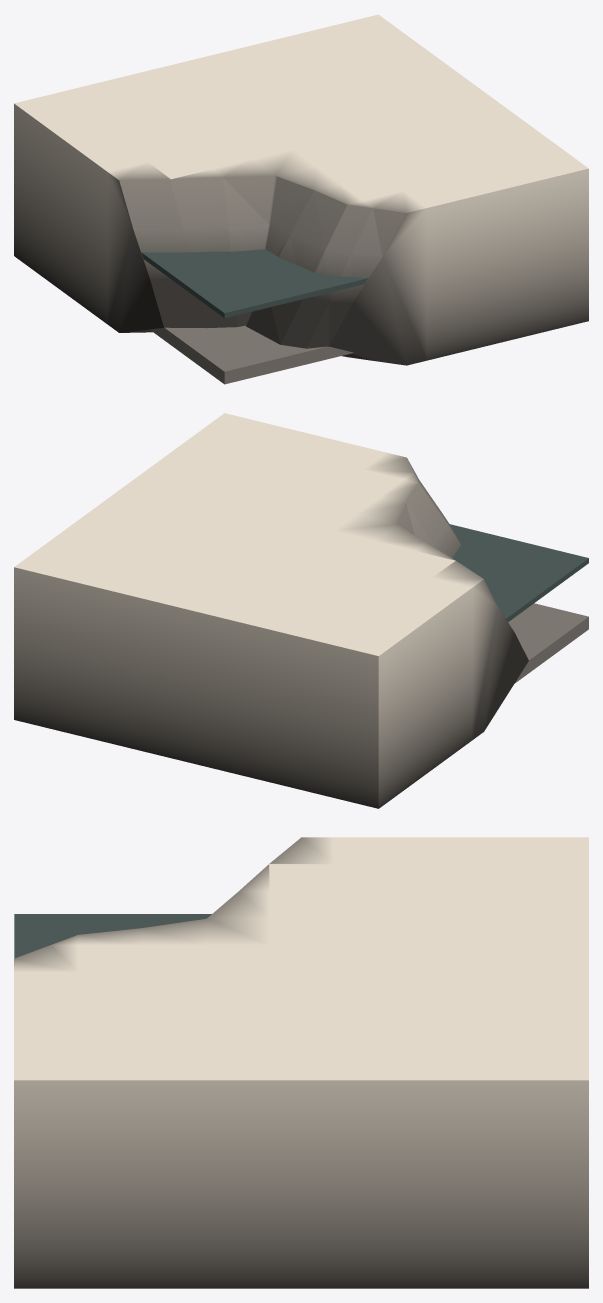
Rendered from SM_VKI_Ground_Stream_XOOO_Q11.fbx.
3 renders of one model, top to bottom at view 1: azimuth 30°, elevation 25°; view 2: azimuth 150°, elevation 25°; view 3: azimuth 270°, elevation 25°, orthographic. The views are drawn at different scales.
Visible parts, largest first — view 1: SM_VKI_Ground_Stream_XOOO_Q11.001; view 2: SM_VKI_Ground_Stream_XOOO_Q11.001; view 3: SM_VKI_Ground_Stream_XOOO_Q11.001.
Boxes of the visible parts, x1,y1,x2,y2 form: SM_VKI_Ground_Stream_XOOO_Q11.001: [14, 14, 588, 384]; SM_VKI_Ground_Stream_XOOO_Q11.001: [14, 413, 588, 808]; SM_VKI_Ground_Stream_XOOO_Q11.001: [14, 837, 588, 1288].
Size of the model in its own units: 1.5 by 0.6 by 1.5.
